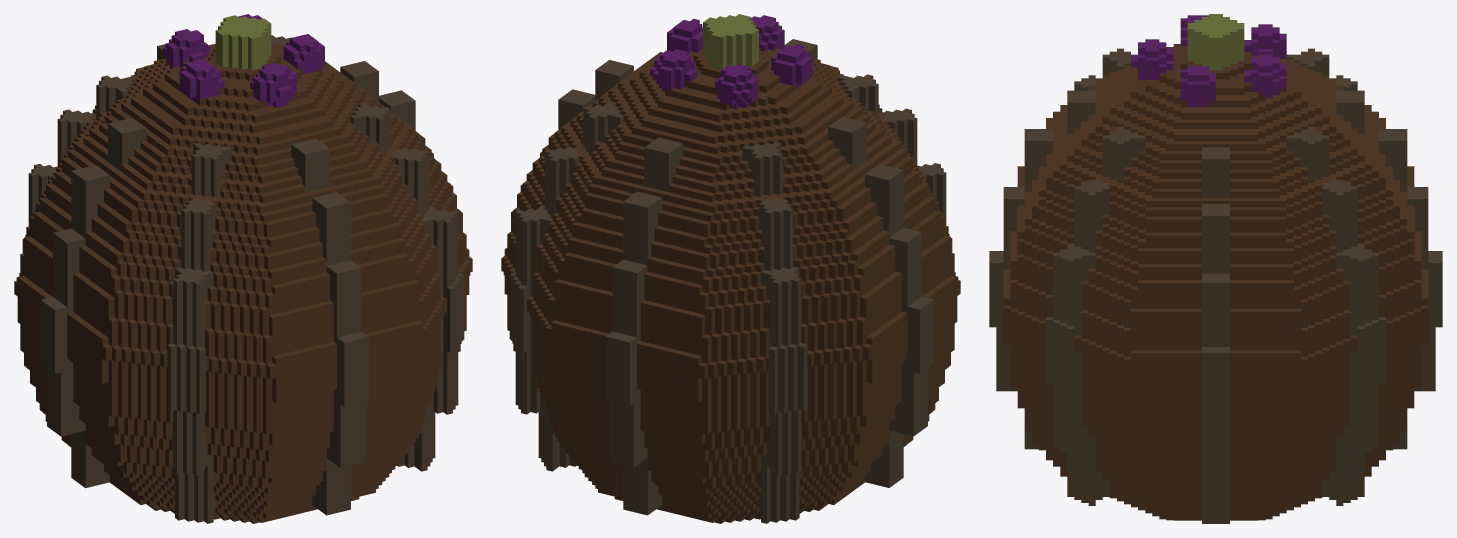
The model's file is hard_rind_fruit.glb.
The picture shows the model from 3 angles, left to right: view 1: azimuth 30°, elevation 25°; view 2: azimuth 150°, elevation 25°; view 3: azimuth 270°, elevation 25°; orthographic projection.
Visible parts, largest first — view 1: hard_rind_fruit:compound; view 2: hard_rind_fruit:compound; view 3: hard_rind_fruit:compound.
Part boxes in pixels (x1,y1,x2,y2): hard_rind_fruit:compound: (14,14,472,523); hard_rind_fruit:compound: (501,14,960,523); hard_rind_fruit:compound: (989,14,1442,523).
Bounding box in the file's own units: 0.256 × 0.284 × 0.256.
